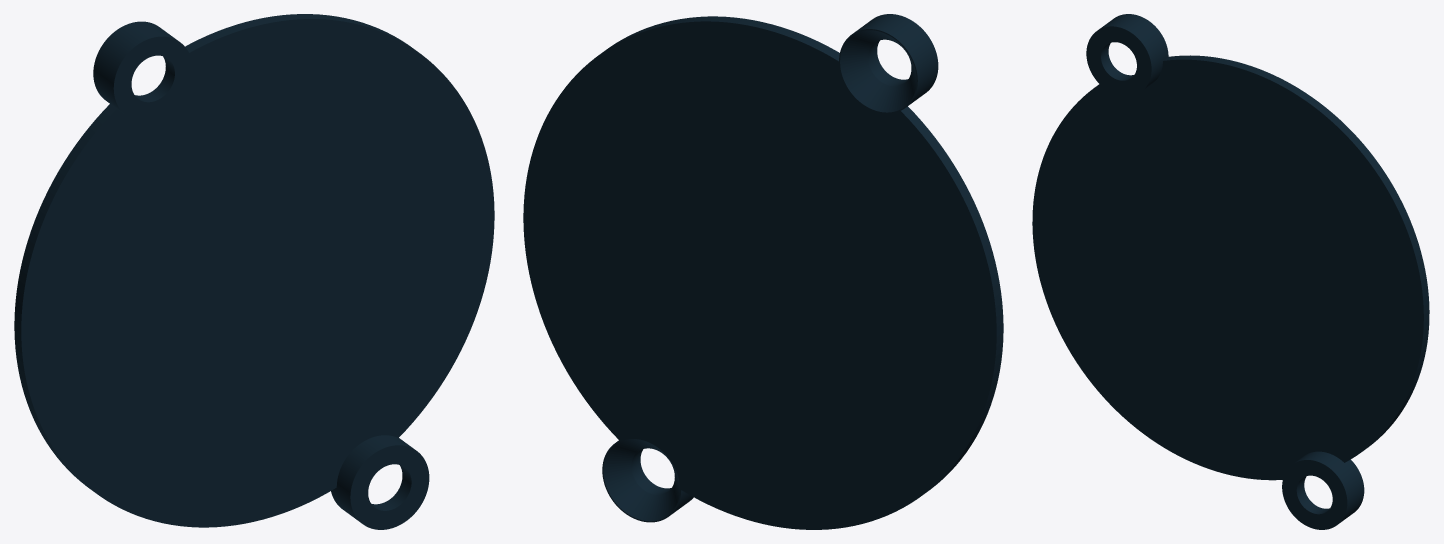
File: Battery_Hatch.obj
The picture shows the model from 3 angles, left to right: view 1: azimuth 30°, elevation 25°; view 2: azimuth 150°, elevation 25°; view 3: azimuth 330°, elevation 25°; orthographic projection. The views are drawn at different scales.
Visible parts, largest first — view 1: Battery_Hatch; view 2: Battery_Hatch; view 3: Battery_Hatch.
Boxes of the visible parts, <box> form: Battery_Hatch: <box>14,14,494,529</box>; Battery_Hatch: <box>523,14,1003,529</box>; Battery_Hatch: <box>1032,14,1429,529</box>.
Size of the model in its own units: 24 by 26.6 by 1.8.
